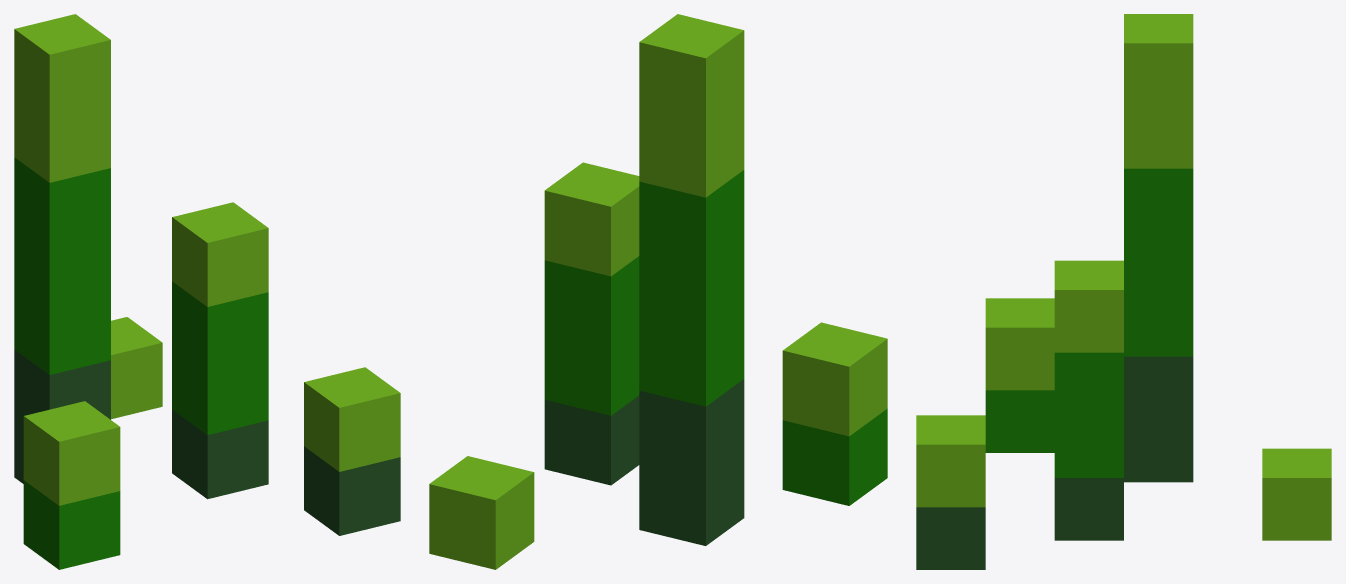
File: Medieval Assets-337-Vegetation - Grass - Highlight - Variant1.obj
The picture shows the model from 3 angles, left to right: view 1: azimuth 30°, elevation 25°; view 2: azimuth 150°, elevation 25°; view 3: azimuth 270°, elevation 25°; orthographic projection. The views are drawn at different scales.
Parts seen in each view (by area): view 1: Vegetation - Grass - Highlight - Variant1; view 2: Vegetation - Grass - Highlight - Variant1; view 3: Vegetation - Grass - Highlight - Variant1.
Boxes of the visible parts, left/top/right/bottom form: Vegetation - Grass - Highlight - Variant1: left=14, top=14, right=400, bottom=569; Vegetation - Grass - Highlight - Variant1: left=429, top=14, right=887, bottom=569; Vegetation - Grass - Highlight - Variant1: left=916, top=14, right=1331, bottom=569.
Bounding box in the file's own units: 0.5 × 0.7 × 0.6.
1 material, 1 textured.
